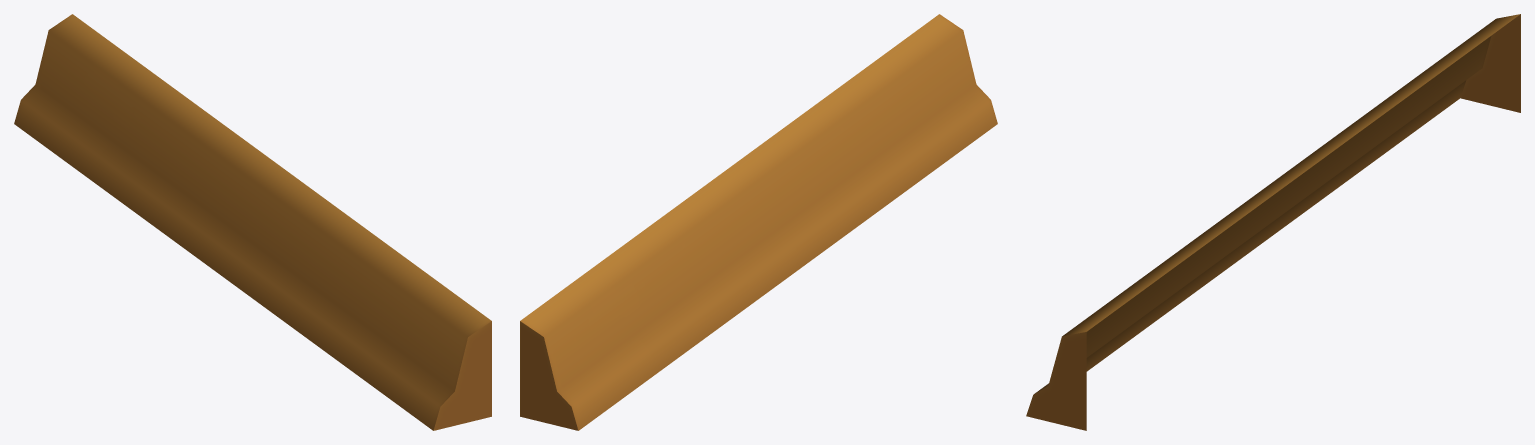
File: plinth_01.fbx
The picture shows the model from 3 angles, left to right: view 1: azimuth 30°, elevation 25°; view 2: azimuth 150°, elevation 25°; view 3: azimuth 330°, elevation 25°; orthographic projection. The views are drawn at different scales.
Parts seen in each view (by area): view 1: plinth_01; view 2: plinth_01; view 3: plinth_01.
Part boxes in pixels (bbox=[...]): plinth_01: bbox=[14, 14, 491, 430]; plinth_01: bbox=[520, 14, 997, 430]; plinth_01: bbox=[1026, 14, 1520, 430].
Size of the model in its own units: 8.05 by 12.59 by 100.
